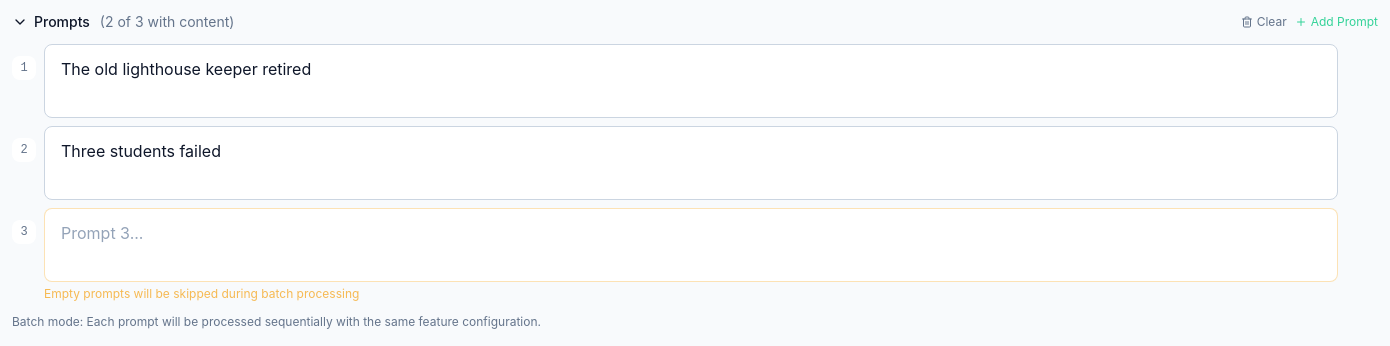
Test: PromptListEditor collapse › the collapsed summary expands it again
Click the button "Prompts (2 of 3 with content)": (123, 22) [12, 12, 234, 32]
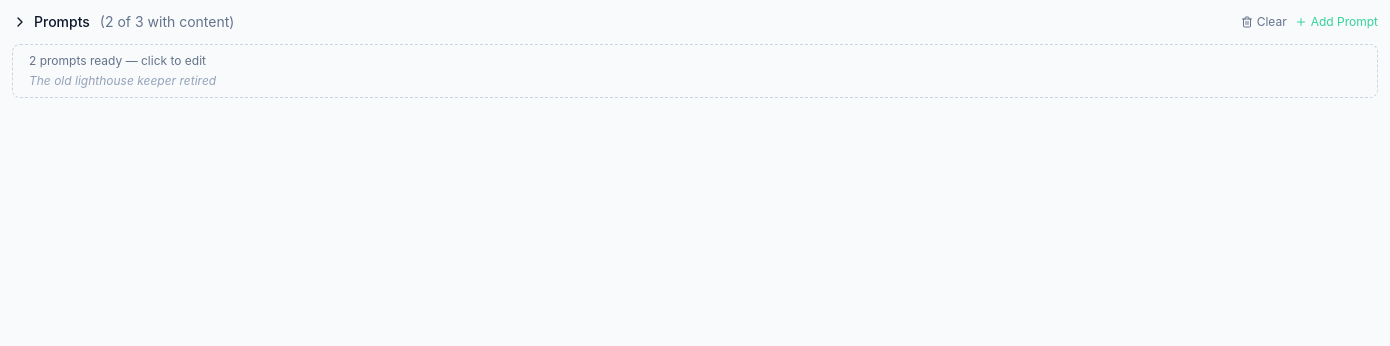
Click the button "2 prompts ready": (118, 60) [12, 44, 1378, 98]
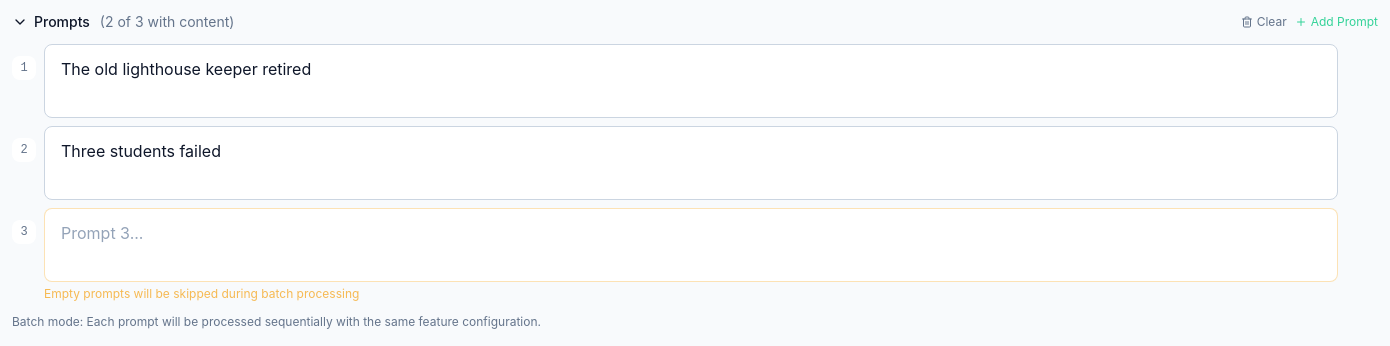
Check: the button "Prompts (2 of 3 with content)" is expanded, box [12, 12, 234, 32]
